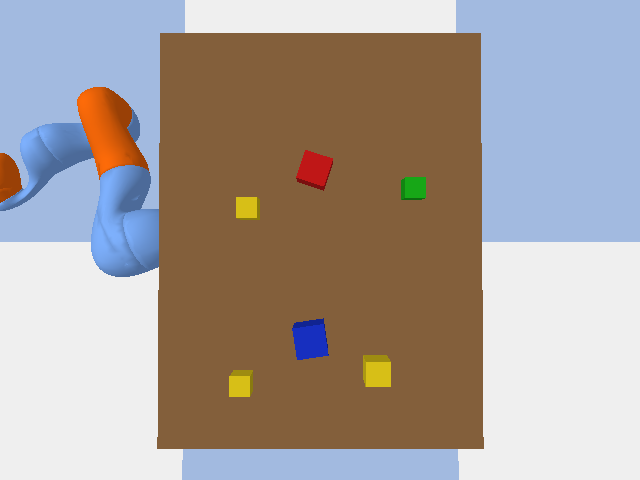blue_obj: (292, 318, 328, 359)
green_obj: (401, 177, 425, 199)
red_obj: (296, 150, 332, 190)
yellow_obj: (363, 355, 390, 386), (229, 370, 252, 396), (236, 197, 259, 219)
